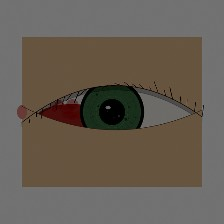hemorrhage_spot: (24, 79, 120, 156)
